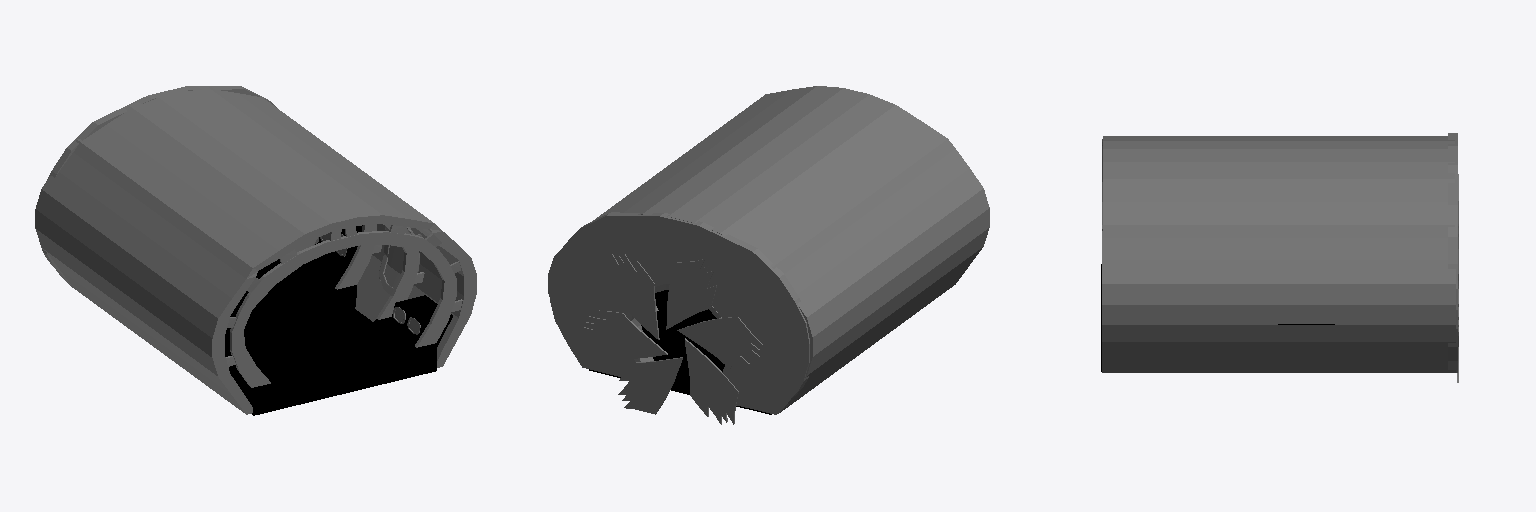
File: hallway_substance.obj
3 views of the same model, side by side, from view 1: azimuth 30°, elevation 25°; view 2: azimuth 150°, elevation 25°; view 3: azimuth 270°, elevation 25° (orthographic).
Parts seen in each view (by area): view 1: exterior, floor, arch arches, trueTerminal terminalAndMonitor, trueTerminal terminalAndMonitor4, back_wall, arches arch1, arches arch2, window1; view 2: exterior, back_wall, Door door_piece5, door_piece1 Door, Door door_piece2, Door door_piece4, Door door_piece6, Door door_piece3, floor; view 3: exterior, back_wall.
Part boxes in pixels (left/top/right/bottom): exterior: left=35, top=87, right=476, bottom=414; floor: left=227, top=259, right=436, bottom=415; arch arches: left=226, top=225, right=462, bottom=387; trueTerminal terminalAndMonitor: left=379, top=295, right=452, bottom=362; trueTerminal terminalAndMonitor4: left=307, top=225, right=362, bottom=297; back_wall: left=42, top=86, right=276, bottom=284; arches arch1: left=376, top=224, right=424, bottom=319; arches arch2: left=335, top=224, right=381, bottom=289; window1: left=379, top=226, right=419, bottom=294; exterior: left=548, top=86, right=989, bottom=413; back_wall: left=549, top=212, right=809, bottom=414; Door door_piece5: left=685, top=338, right=738, bottom=424; door_piece1 Door: left=582, top=310, right=667, bottom=358; Door door_piece2: left=606, top=254, right=659, bottom=339; Door door_piece4: left=677, top=317, right=762, bottom=364; Door door_piece6: left=618, top=357, right=682, bottom=414; Door door_piece3: left=666, top=259, right=716, bottom=329; floor: left=589, top=309, right=771, bottom=414; exterior: left=1102, top=136, right=1455, bottom=372; back_wall: left=1448, top=133, right=1457, bottom=372.
Size of the model in its own units: 1313 by 948 by 1536.